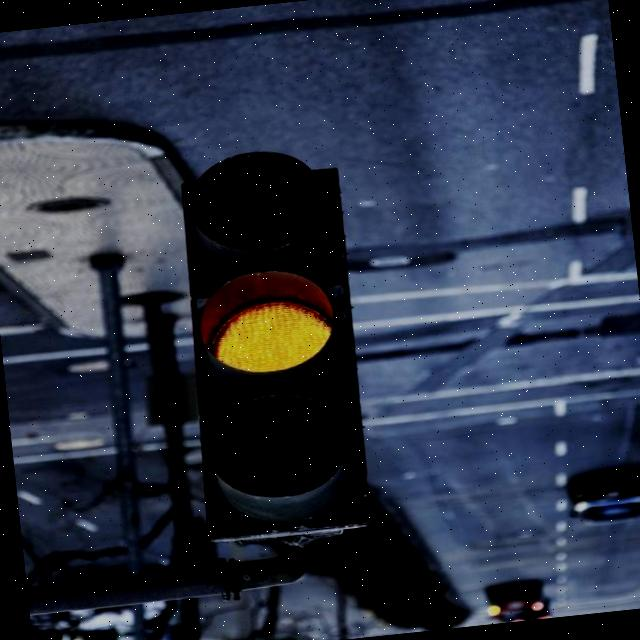yellow_light: (162, 130, 379, 546)
